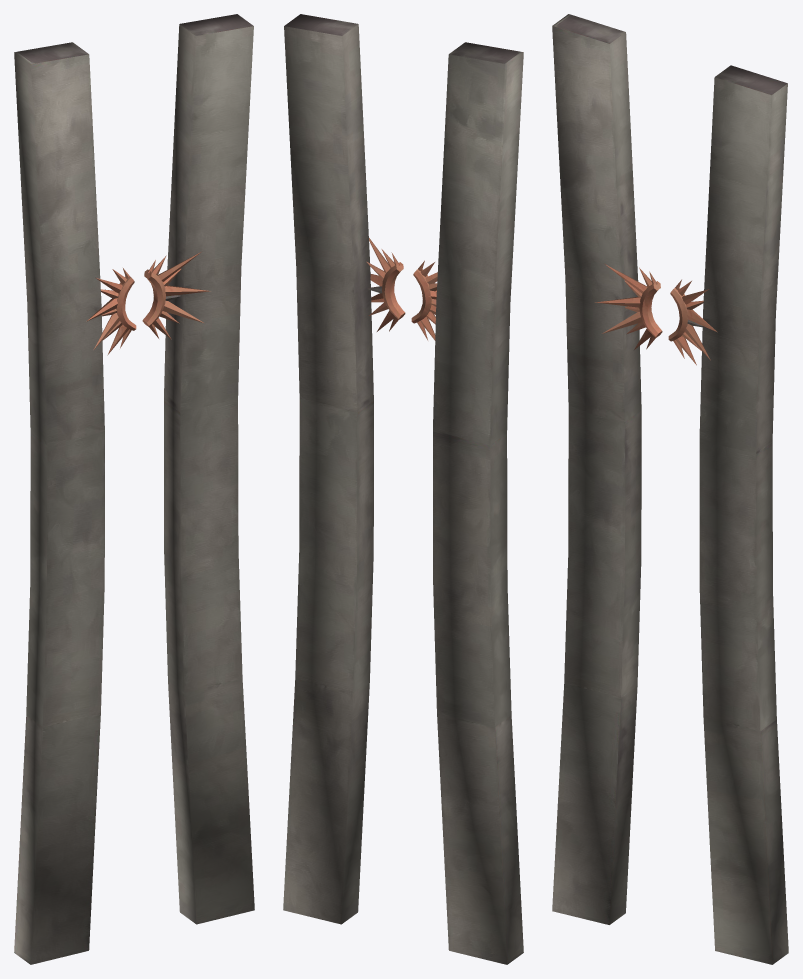
Rendered from Sm_monumto_bicentenario.glb.
3 renders of one model, left to right at view 1: azimuth 30°, elevation 25°; view 2: azimuth 150°, elevation 25°; view 3: azimuth 330°, elevation 25°, orthographic.
Parts seen in each view (by area): view 1: sm_munimentobicentenario; view 2: sm_munimentobicentenario; view 3: sm_munimentobicentenario.
Boxes of the visible parts, x1,y1,x2,y2 form: sm_munimentobicentenario: [14, 14, 254, 964]; sm_munimentobicentenario: [283, 14, 523, 964]; sm_munimentobicentenario: [552, 14, 788, 964].
Size of the model in its own units: 5.18 by 19.9 by 0.9254.
1 material, 1 textured.
